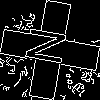N: (25, 25, 76, 69)
